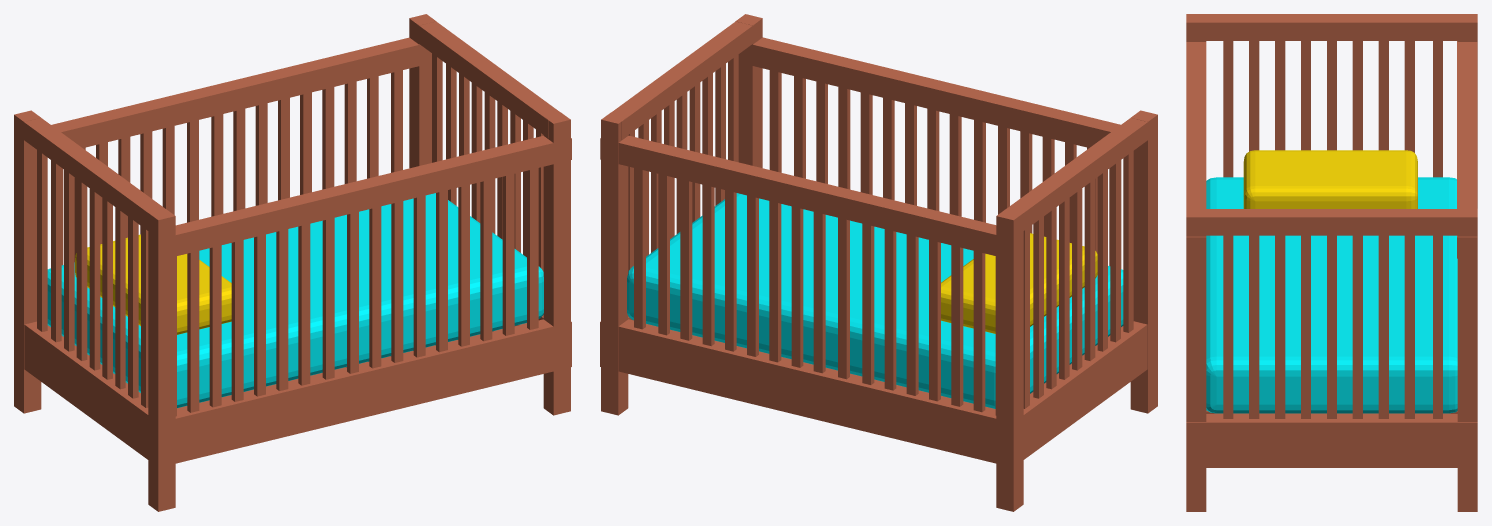
File: 4iV2yZ0wIf1.glb
The picture shows the model from 3 angles, left to right: view 1: azimuth 30°, elevation 25°; view 2: azimuth 150°, elevation 25°; view 3: azimuth 270°, elevation 25°; orthographic projection.
Visible parts, largest first — view 1: Box001, Box082, Box083; view 2: Box001, Box082, Box083; view 3: Box001, Box082, Box083.
Part boxes in pixels (bbox=[...]): Box001: bbox=[14, 14, 571, 511]; Box082: bbox=[47, 193, 543, 408]; Box083: bbox=[75, 234, 231, 334]; Box001: bbox=[600, 14, 1157, 511]; Box082: bbox=[627, 193, 1123, 408]; Box083: bbox=[941, 233, 1097, 333]; Box001: bbox=[1186, 14, 1477, 511]; Box082: bbox=[1206, 177, 1457, 413]; Box083: bbox=[1243, 150, 1417, 208].
Bounding box in the file's own units: 1.48 × 1 × 0.8969.
